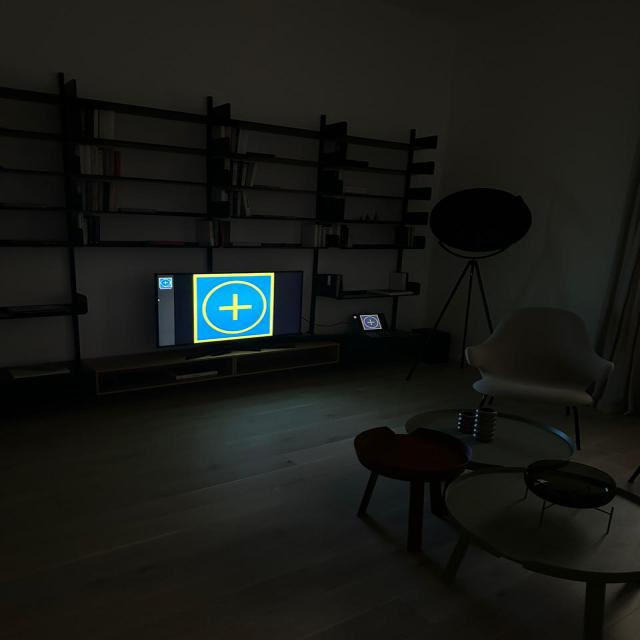Marker: (193, 273, 273, 343), (360, 315, 382, 329), (159, 278, 172, 287)
